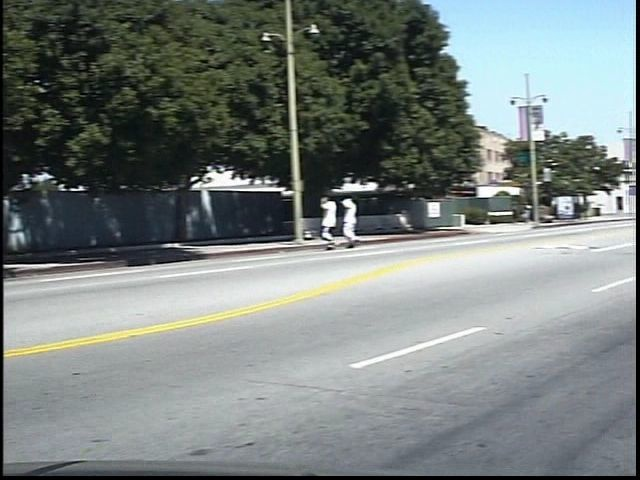person: (334, 193, 360, 255), (358, 194, 384, 254)
